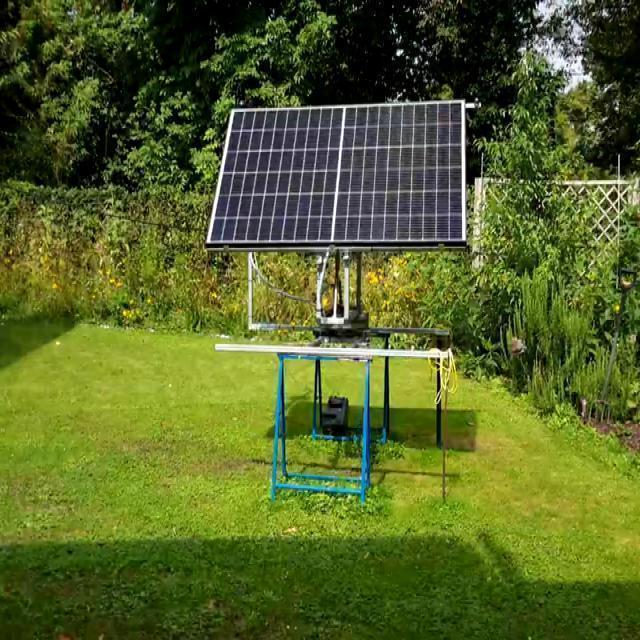Normal Solar Panel: (206, 100, 467, 249)
